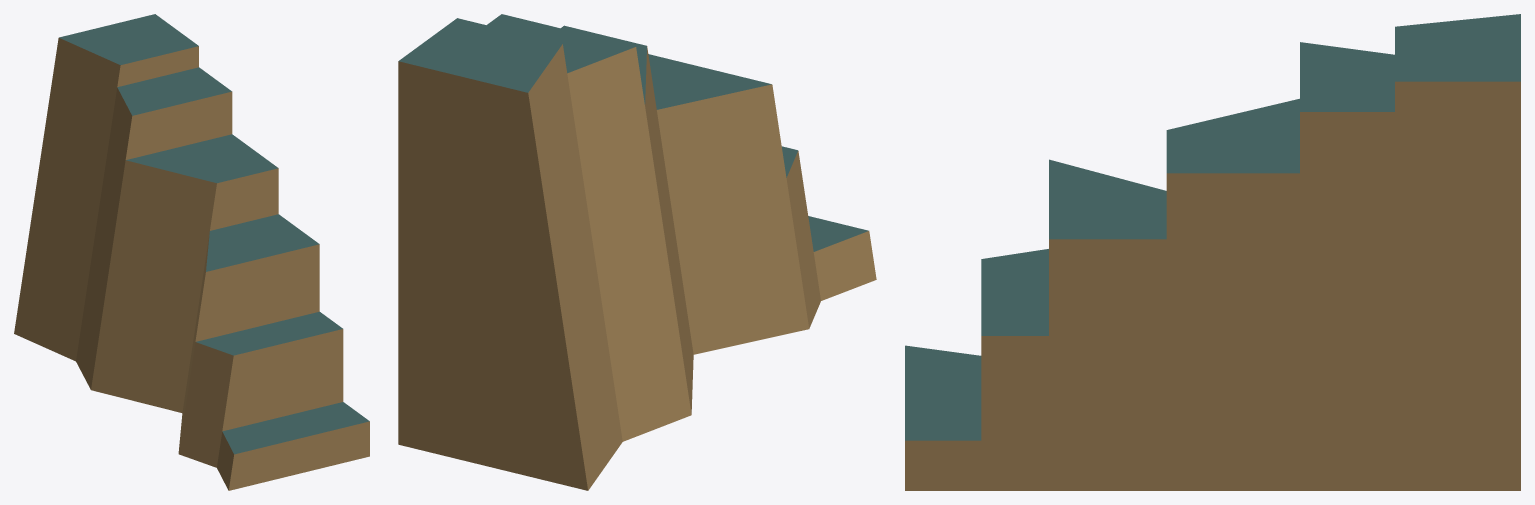
The model's file is Brown_Cliff_End_Green_Top_01.obj.
3 views of the same model, side by side, from view 1: azimuth 30°, elevation 25°; view 2: azimuth 150°, elevation 25°; view 3: azimuth 270°, elevation 25° (orthographic). The views are drawn at different scales.
Parts seen in each view (by area): view 1: Mesh1 Brown_Cliff_End_Green_Top Model; view 2: Mesh1 Brown_Cliff_End_Green_Top Model; view 3: Mesh1 Brown_Cliff_End_Green_Top Model.
Part boxes in pixels (x1,y1,x2,y2): Mesh1 Brown_Cliff_End_Green_Top Model: [14, 14, 369, 490]; Mesh1 Brown_Cliff_End_Green_Top Model: [398, 14, 876, 490]; Mesh1 Brown_Cliff_End_Green_Top Model: [905, 14, 1520, 490].
Size of the model in its own units: 1.14 by 2.2 by 3.
1 material, 1 textured.
